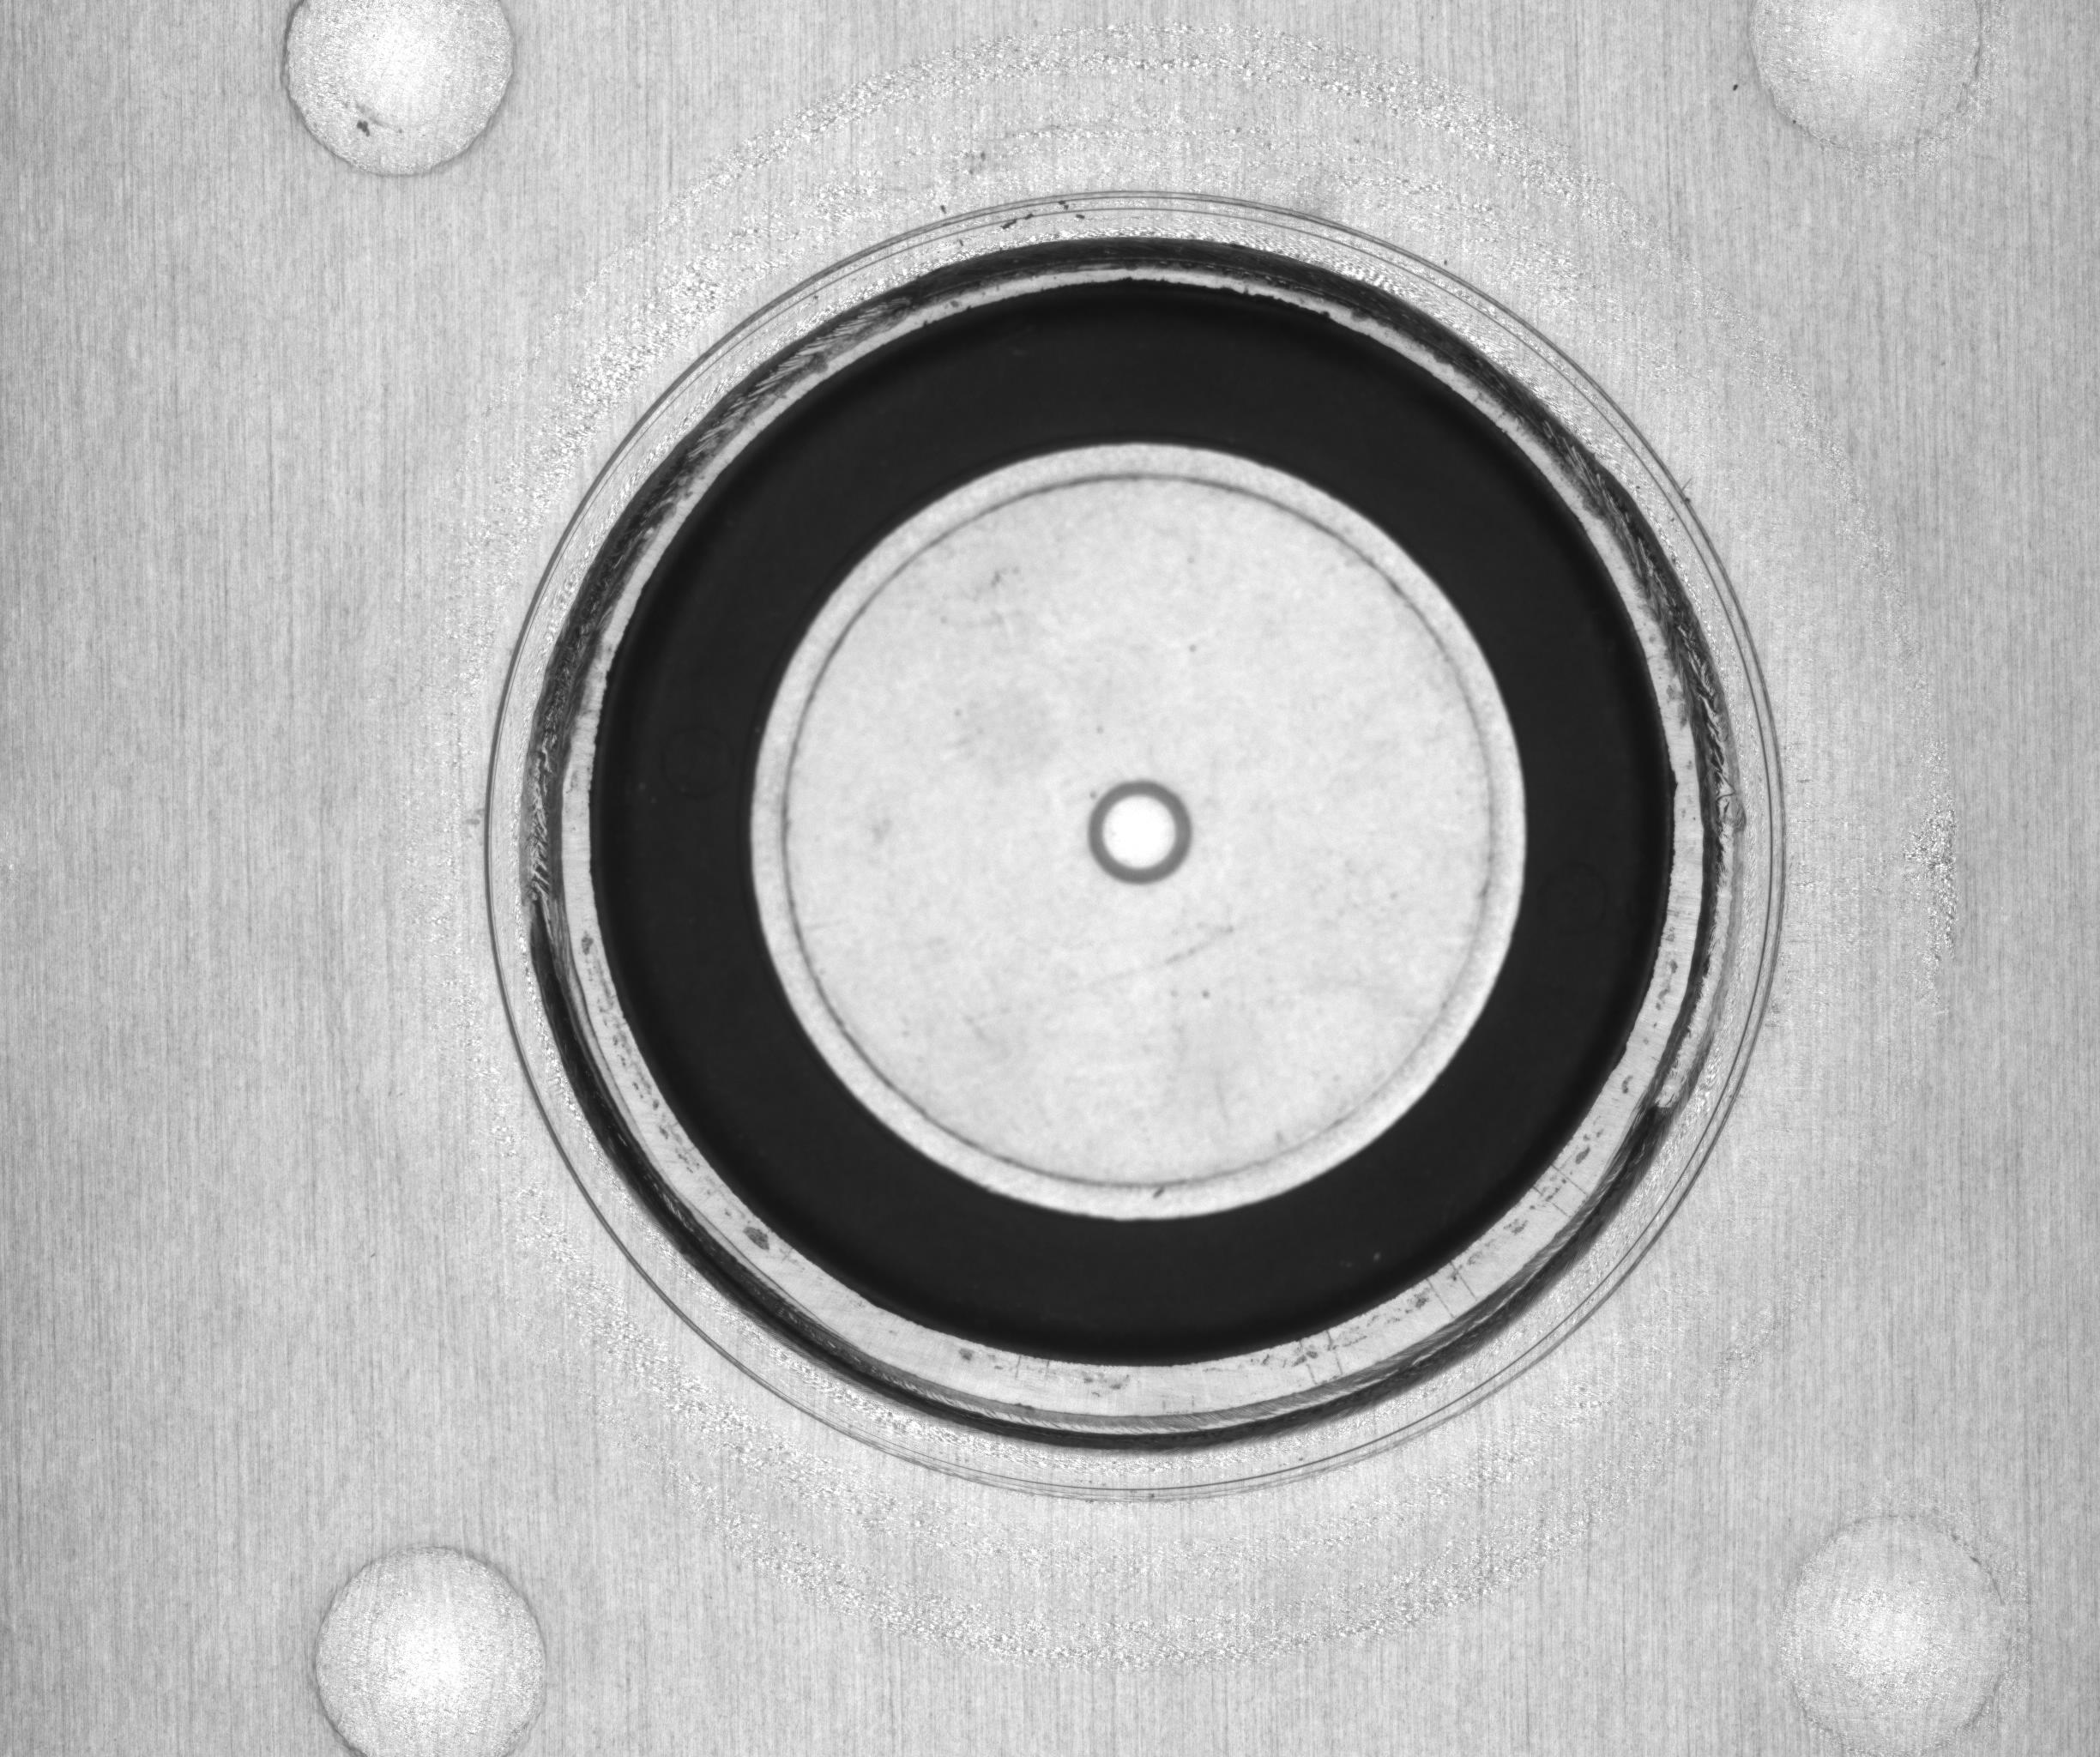shifting: (455, 159, 1805, 1509)
